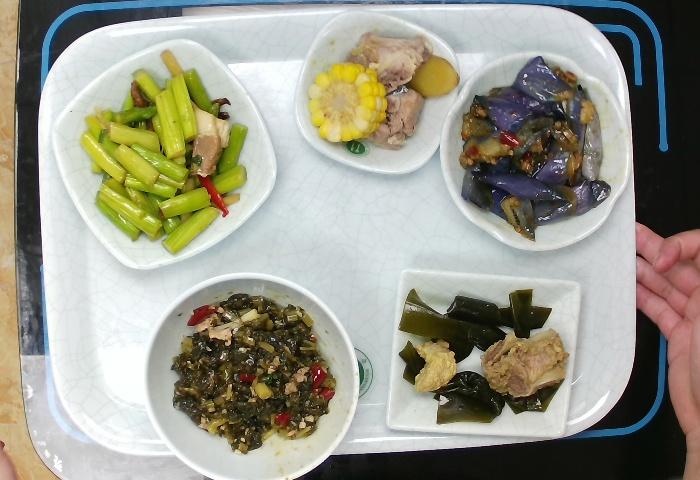JYsf-Ao_Yuan_Wan: (441, 56, 636, 250)
JYsf-Fan_Wan: (133, 266, 365, 480)
JYsf-Si_Fang_Die: (290, 16, 458, 175)
WCQzf-Da_Si_Fang_Die: (52, 42, 276, 267)
WCQzf-Ru_Ci_Si_Fang_Die: (387, 265, 580, 442)
